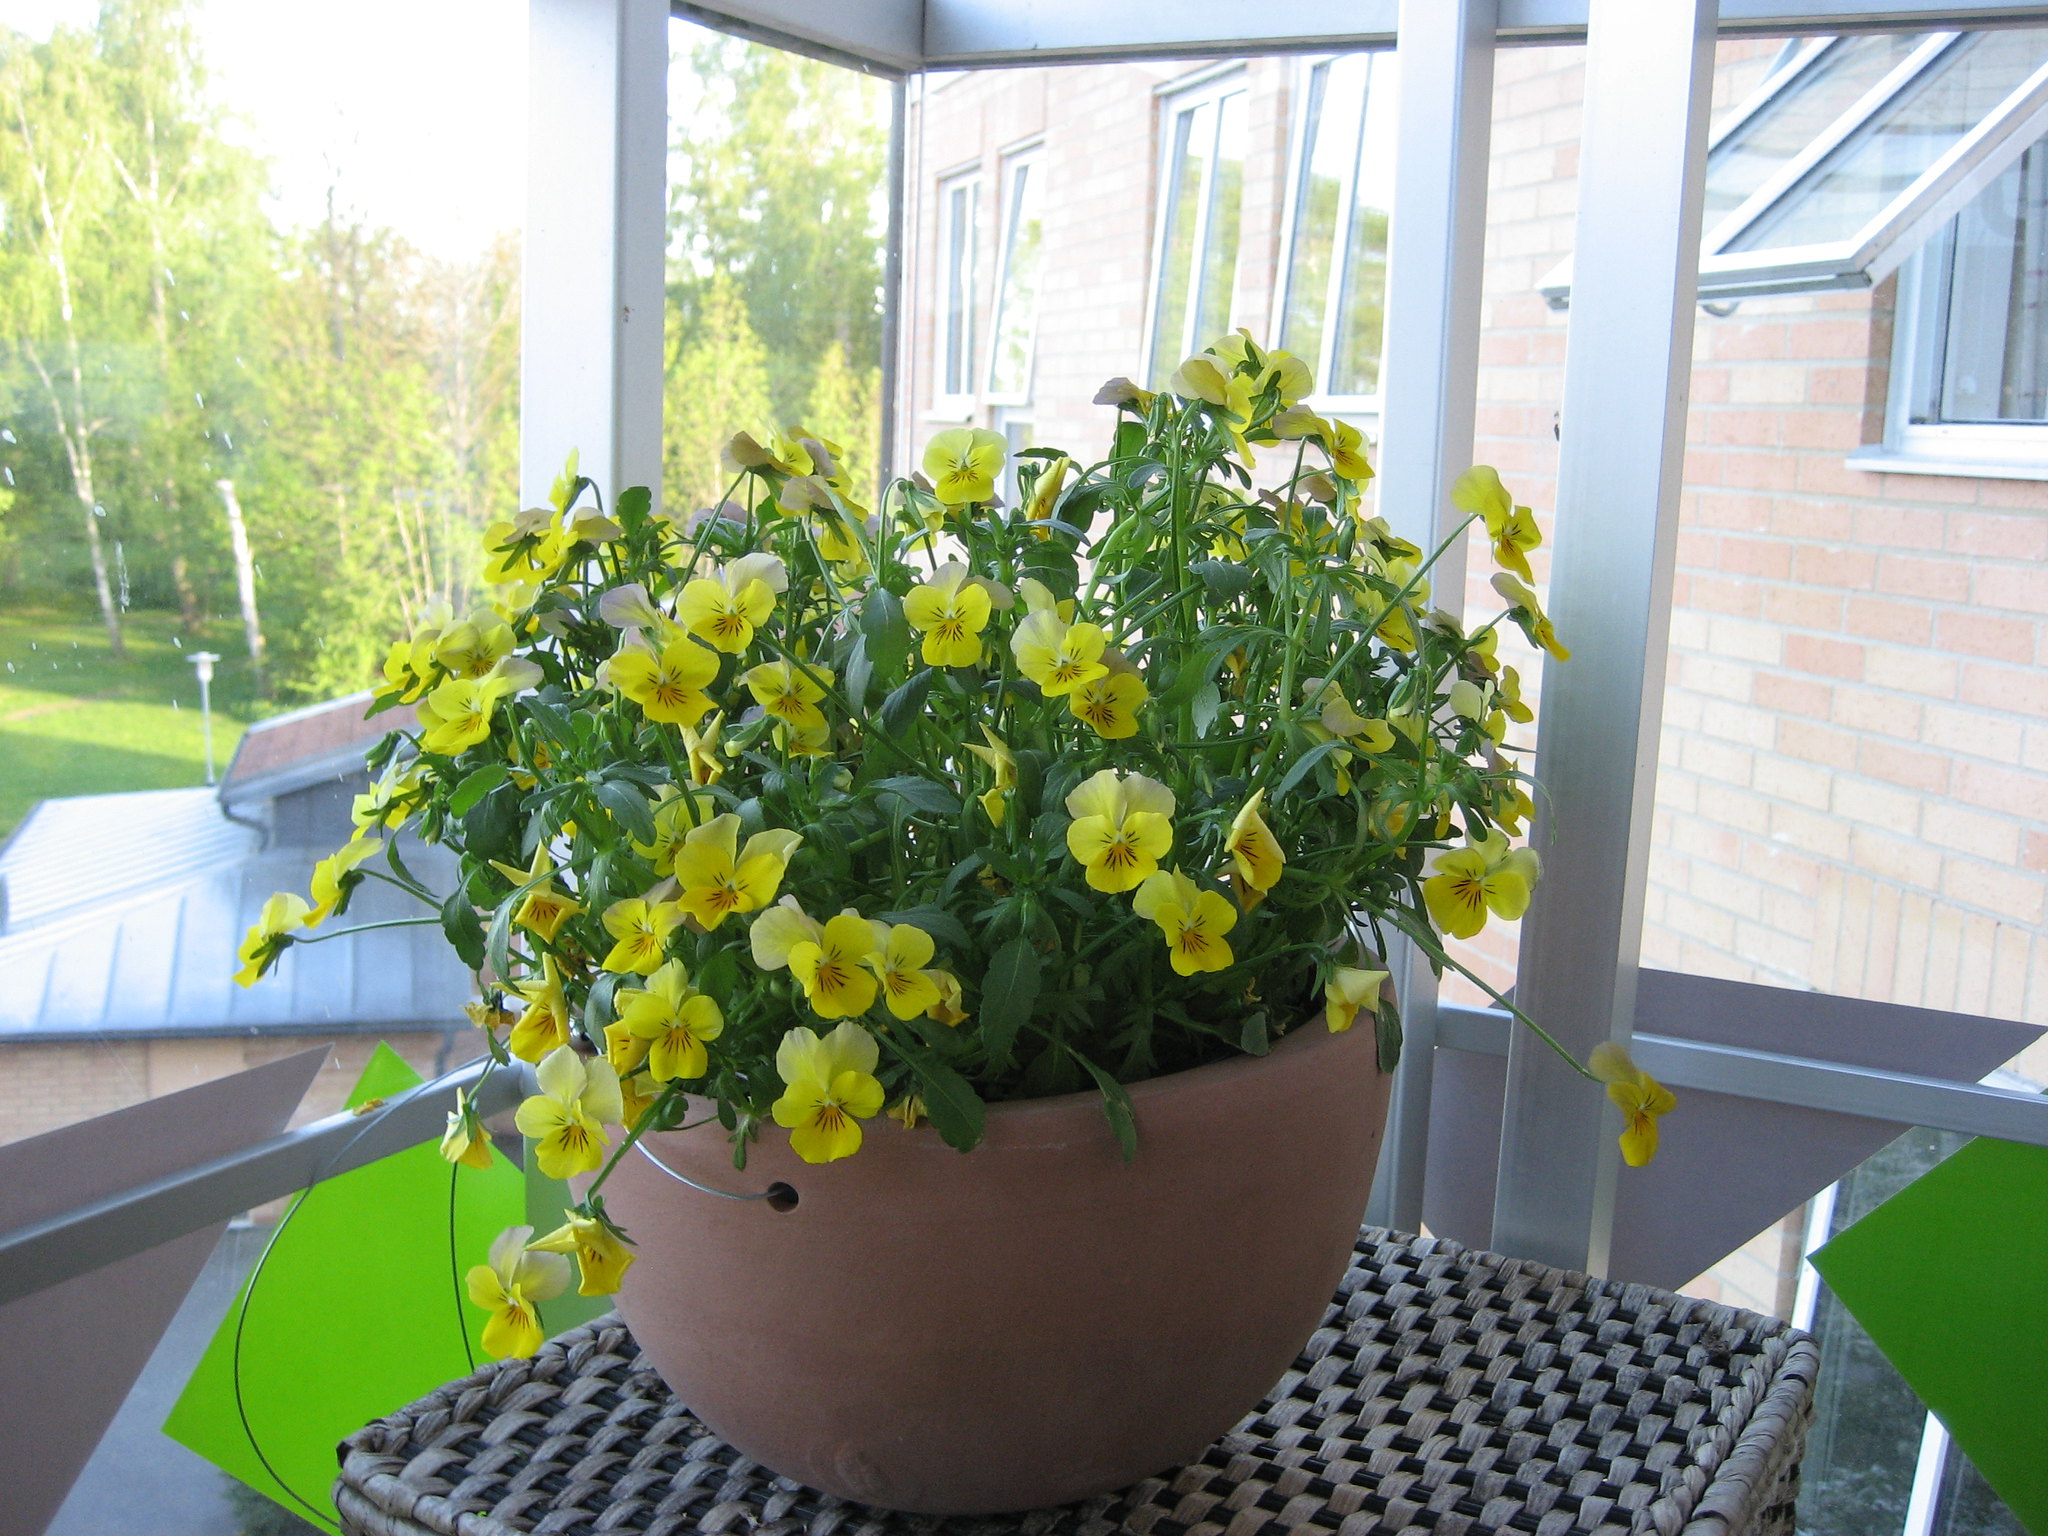potted plant: (427, 328, 1579, 1512)
